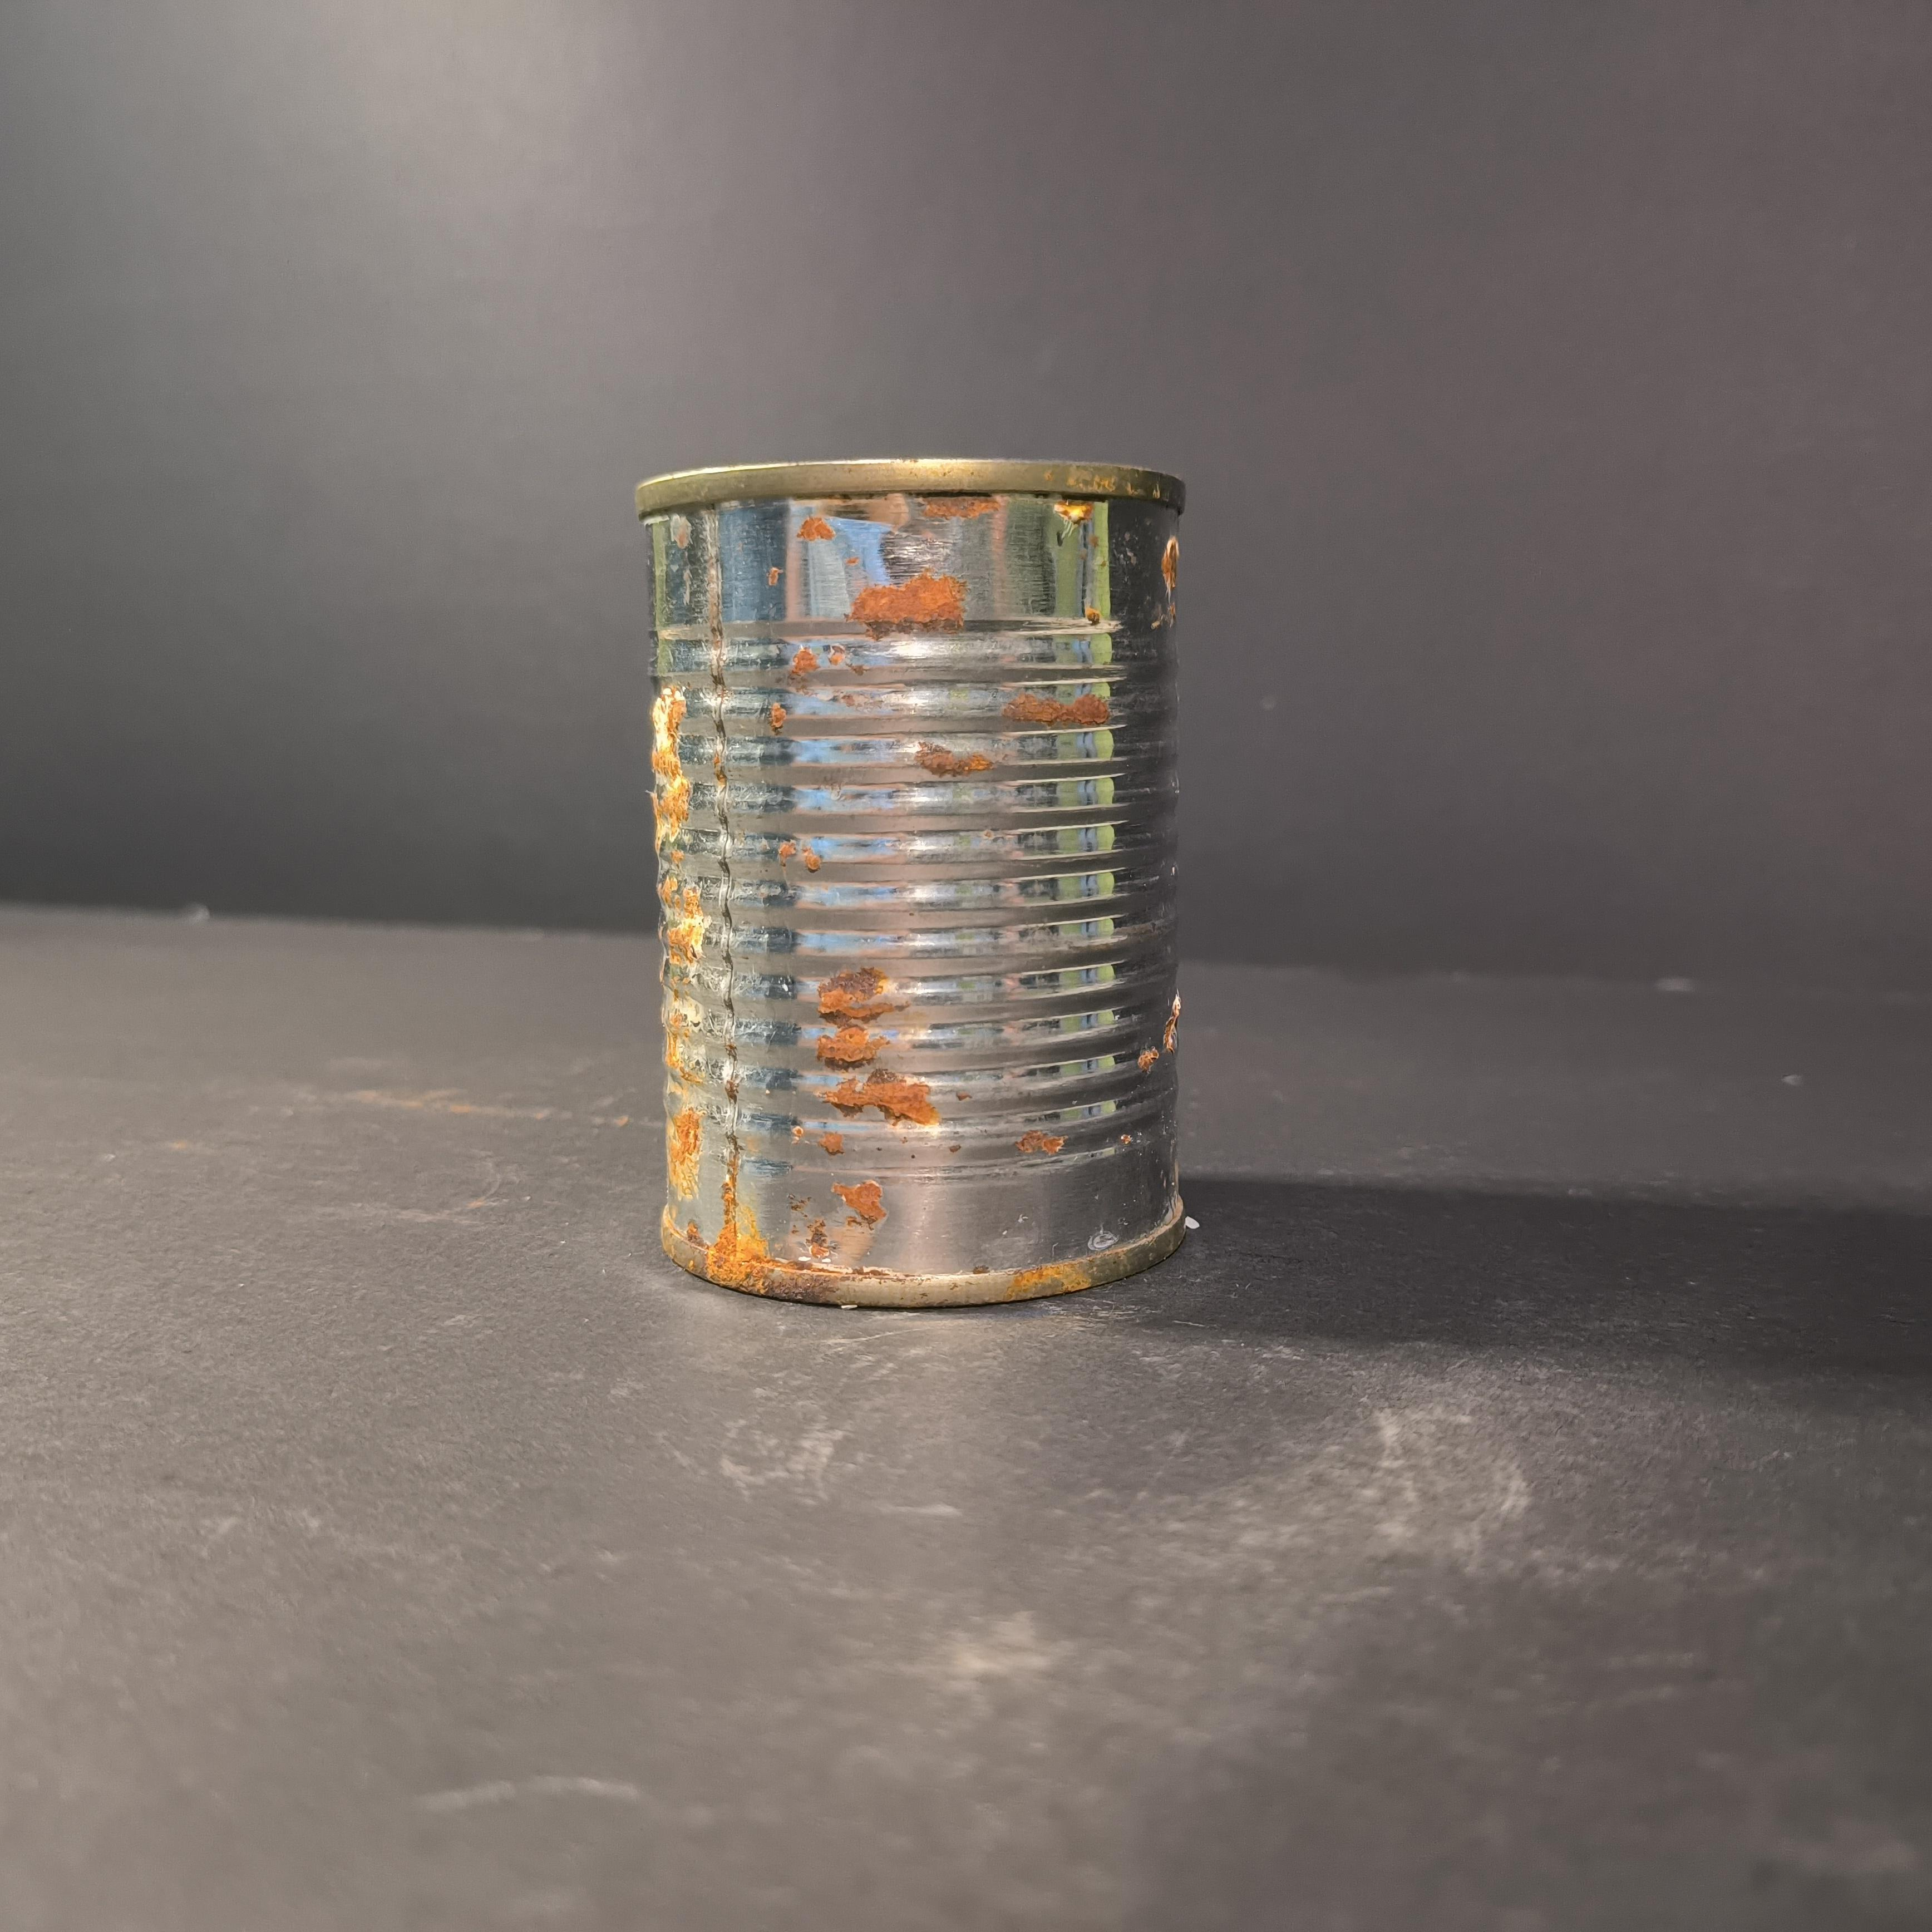Rusted: (609, 437, 1216, 1330)
